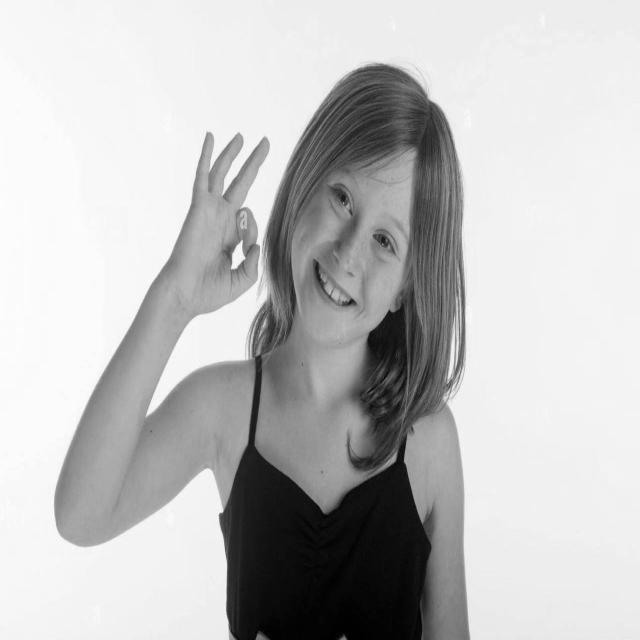perfect: (163, 124, 272, 321)
